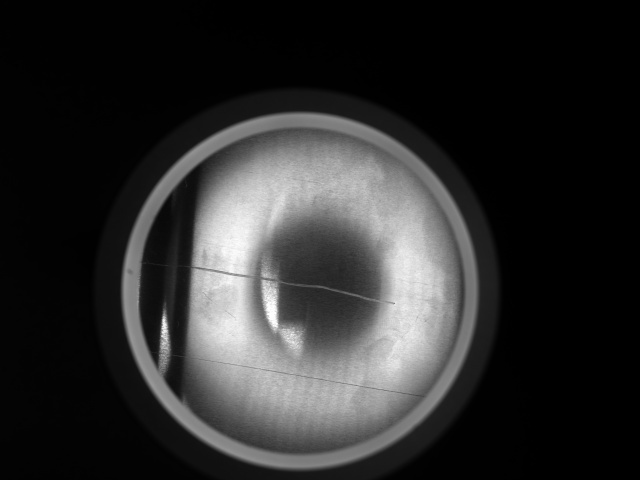ca_shang: (151, 350, 425, 396), (147, 260, 398, 304)
